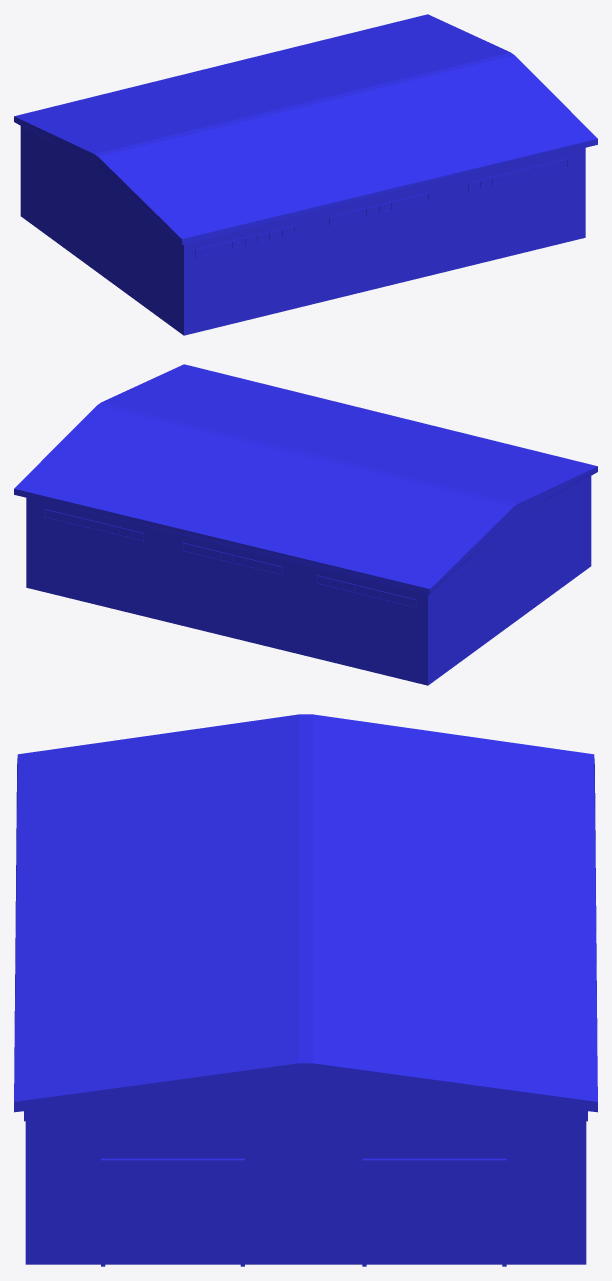
The model's file is Building_10.fbx.
3 renders of one model, top to bottom at view 1: azimuth 30°, elevation 25°; view 2: azimuth 150°, elevation 25°; view 3: azimuth 270°, elevation 25°, orthographic. The views are drawn at different scales.
Visible parts, largest first — view 1: Building_10; view 2: Building_10; view 3: Building_10.
Boxes of the visible parts, <box> form: Building_10: <box>14,14,597,335</box>; Building_10: <box>14,364,597,685</box>; Building_10: <box>14,714,597,1266</box>.
Bounding box in the file's own units: 2512 × 702 × 1777.
